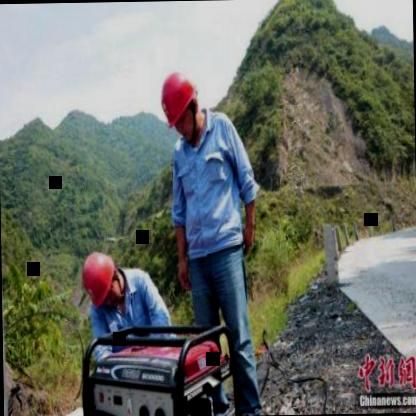helmet: (156, 64, 206, 144), (76, 246, 123, 310)
